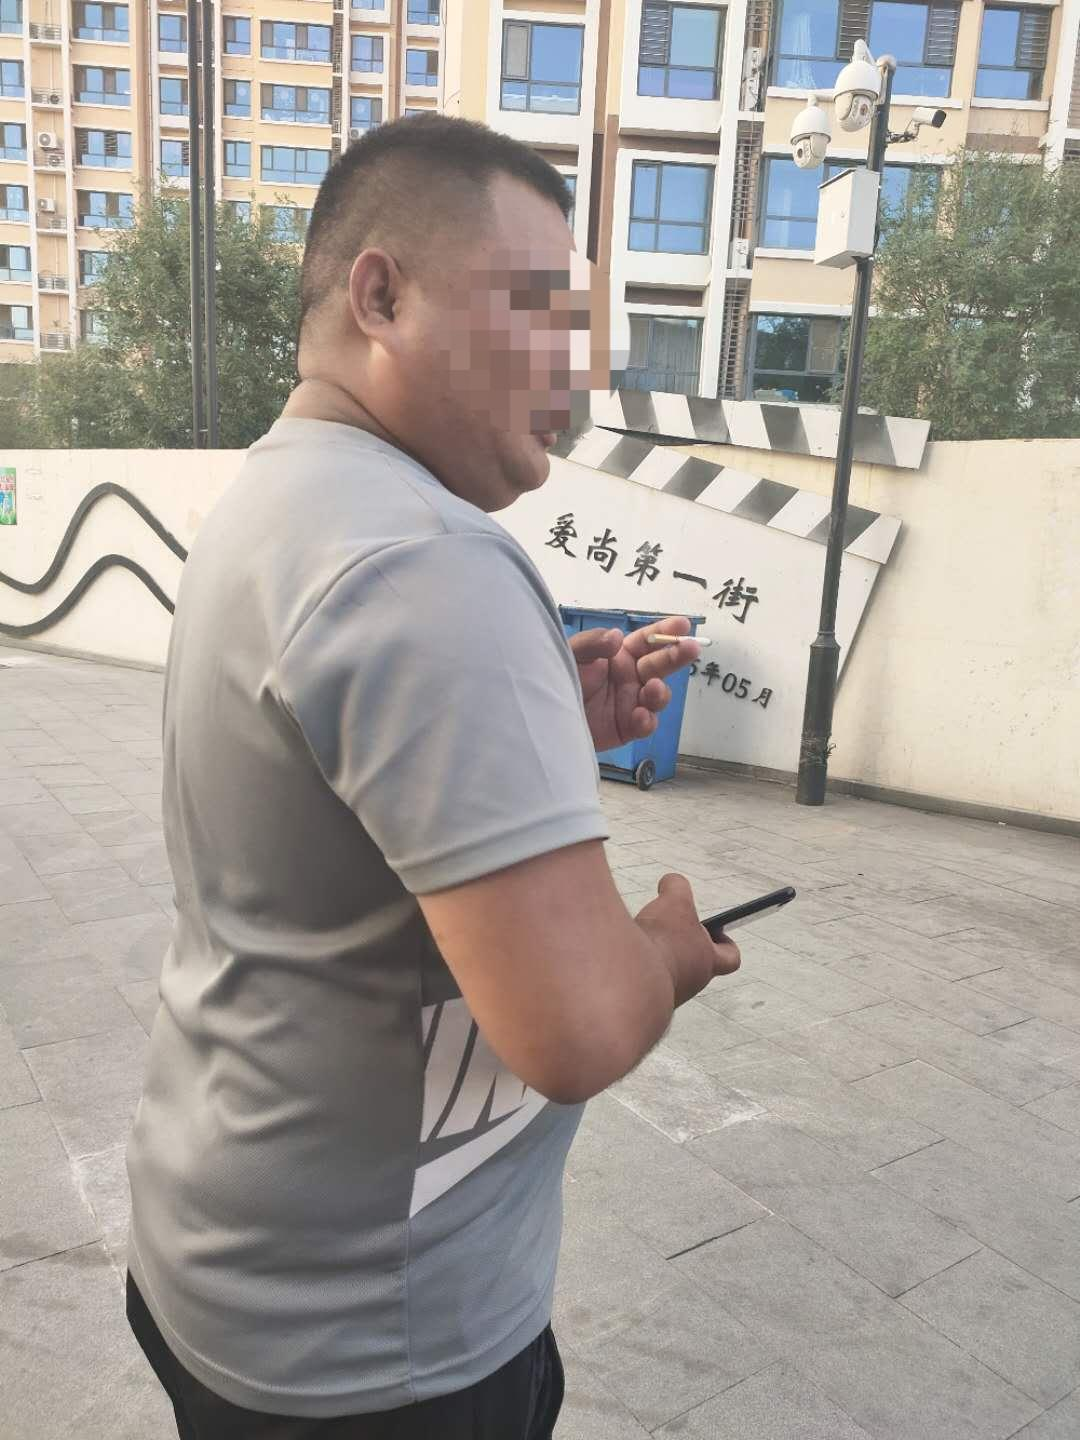smoke: (644, 628, 716, 657)
